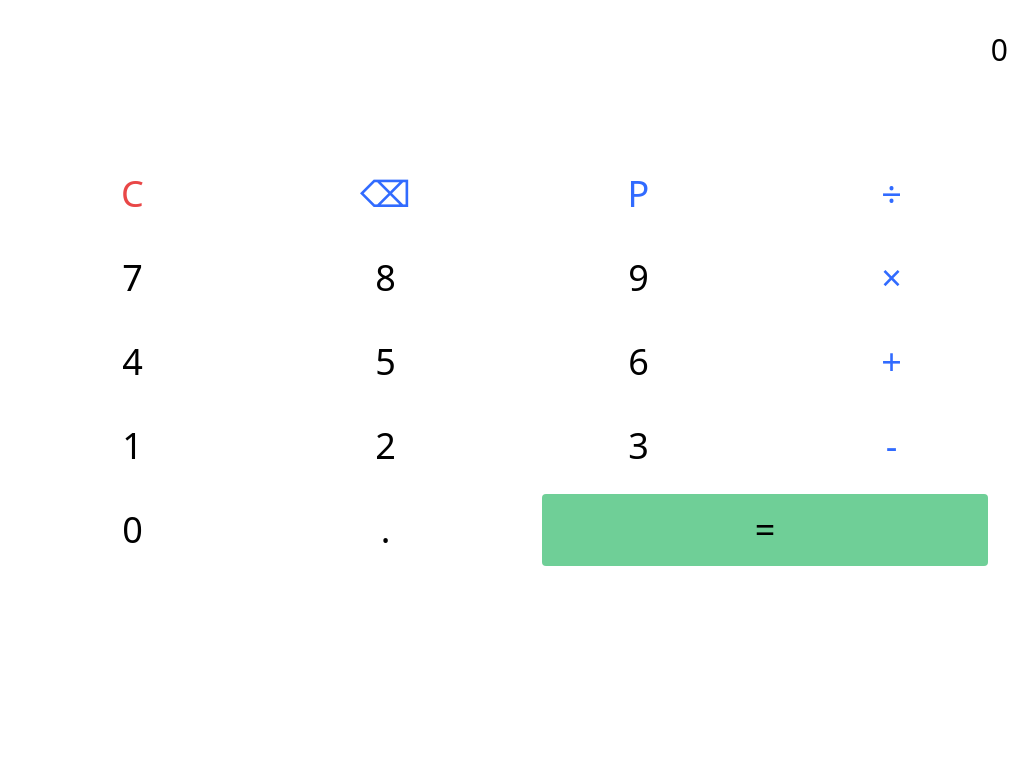
MathCalc Component › displays calculated addition result
This screenshot has width=1024, height=768.
Click the button with test id "1". click: (132, 446)
box: x1=12 y1=410 x2=253 y2=482
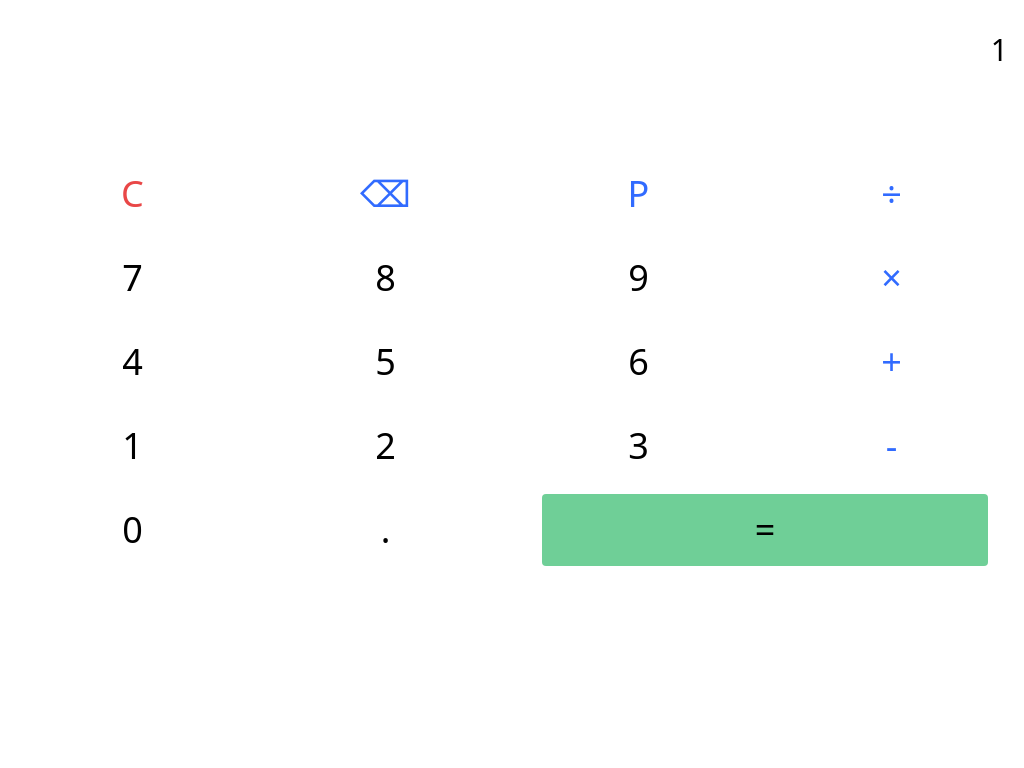
Click the button with test id "+". click: (892, 362)
box: x1=771 y1=326 x2=1012 y2=398
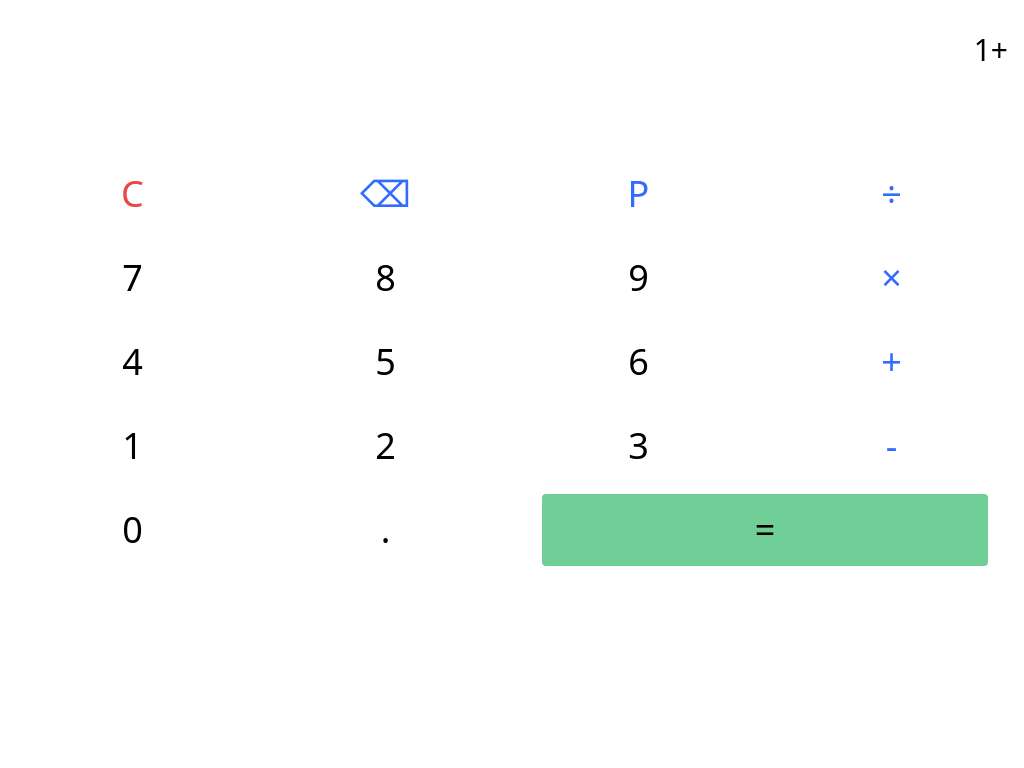
Click the button with test id "1". click: (132, 446)
box: x1=12 y1=410 x2=253 y2=482
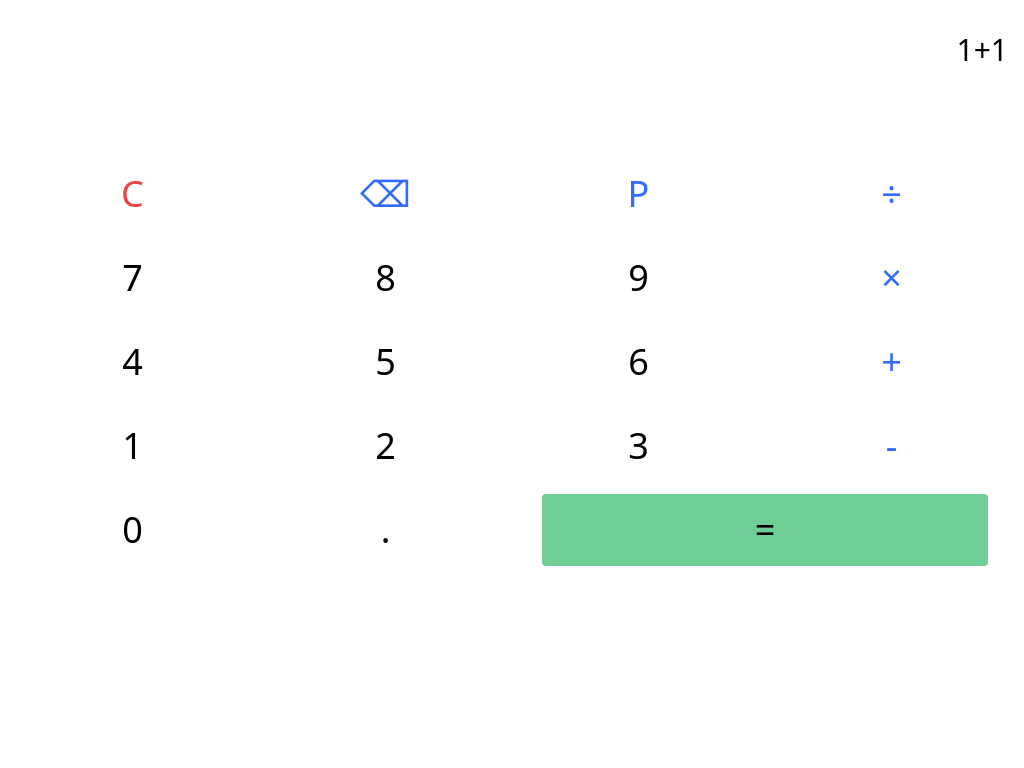
Click the button with test id "equals". click: (765, 530)
box: x1=542 y1=494 x2=988 y2=566
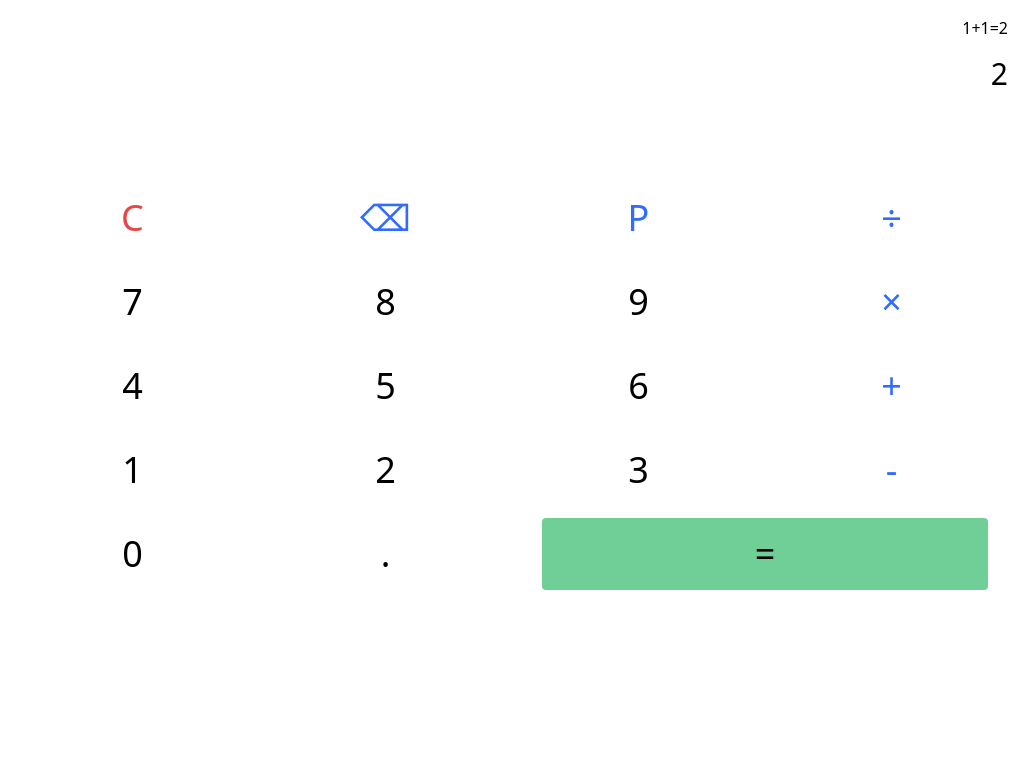
Result: the text with test id "result" reads "2" at x1=991 y1=53 x2=1008 y2=94
